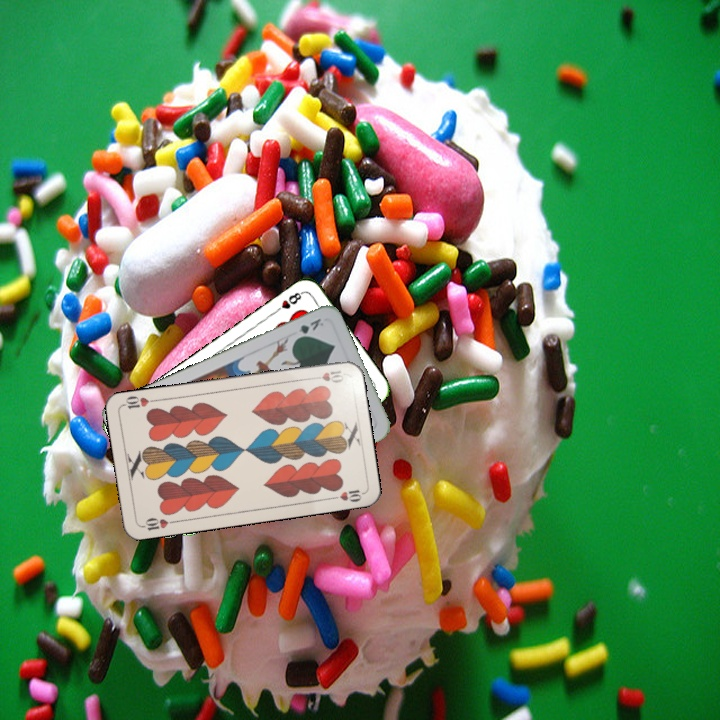GK: (290, 314, 326, 342)
H10: (138, 514, 178, 533), (307, 366, 346, 385)
H8: (270, 287, 306, 316)
